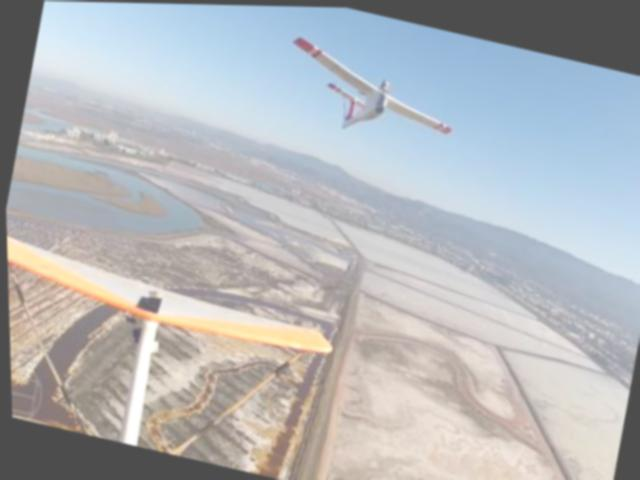uav: (269, 26, 470, 162)
